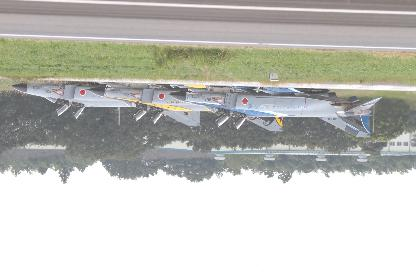F35: (162, 85, 382, 137), (81, 82, 283, 132), (5, 80, 201, 126)
